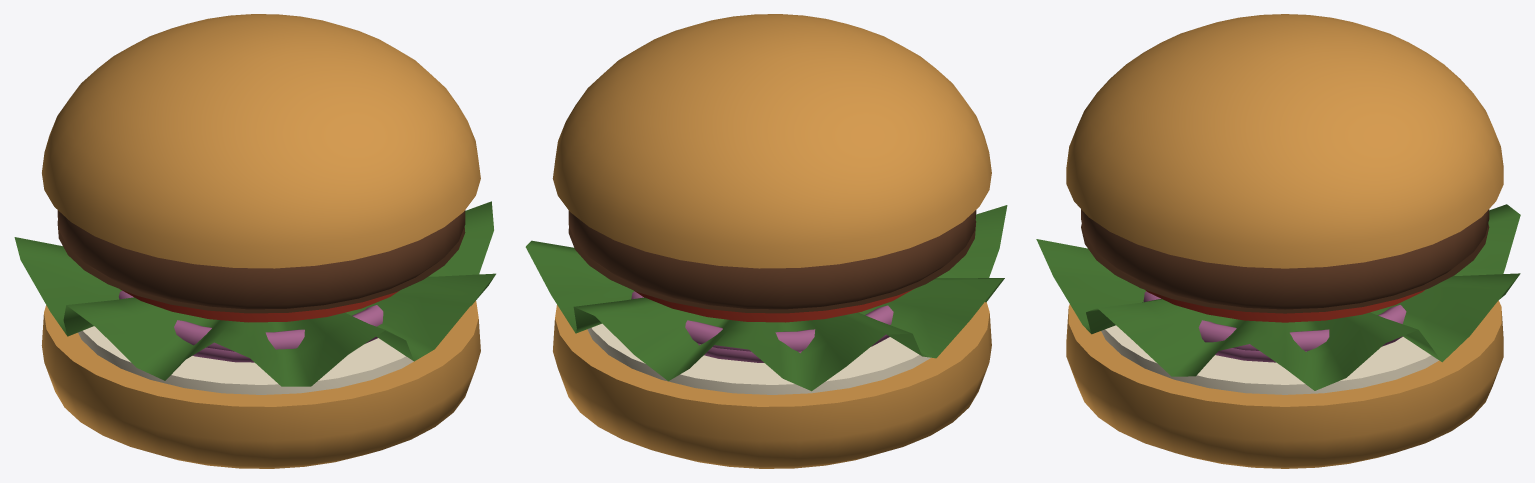
File: burger-craft.glb
The picture shows the model from 3 angles, left to right: view 1: azimuth 30°, elevation 25°; view 2: azimuth 150°, elevation 25°; view 3: azimuth 270°, elevation 25°; orthographic projection.
Parts seen in each view (by area): view 1: burger-craft; view 2: burger-craft; view 3: burger-craft.
Part boxes in pixels (left/top/right/bottom): burger-craft: left=14, top=14, right=495, bottom=468; burger-craft: left=525, top=14, right=1007, bottom=468; burger-craft: left=1036, top=14, right=1520, bottom=468.
Size of the model in its own units: 0.1342 by 0.106 by 0.1324.
